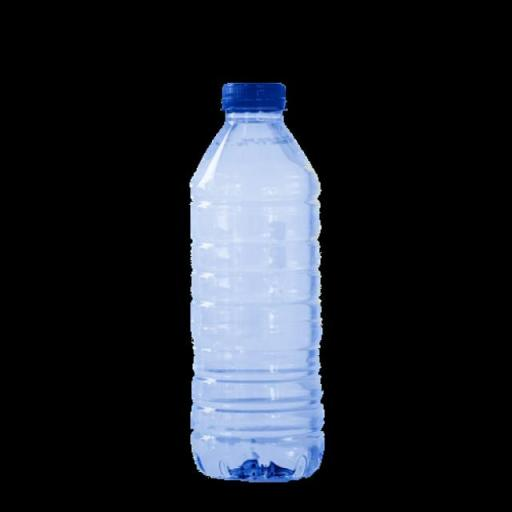plastic: (186, 80, 328, 478)
